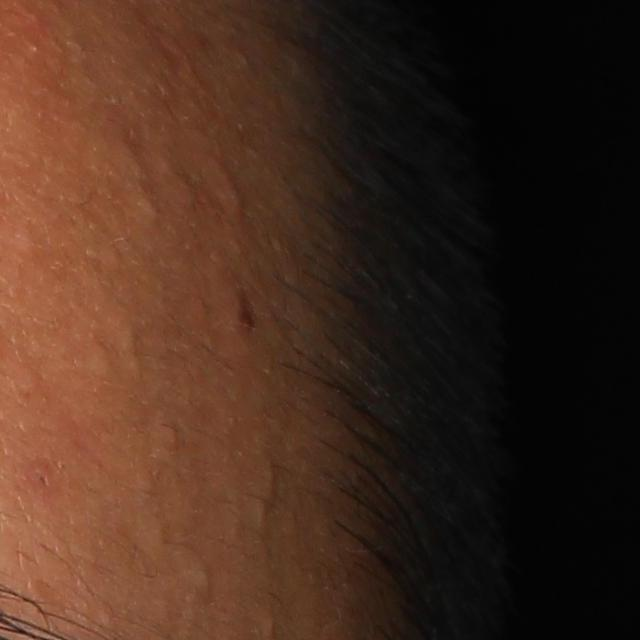comedo: (130, 191, 159, 223), (254, 496, 272, 527)
